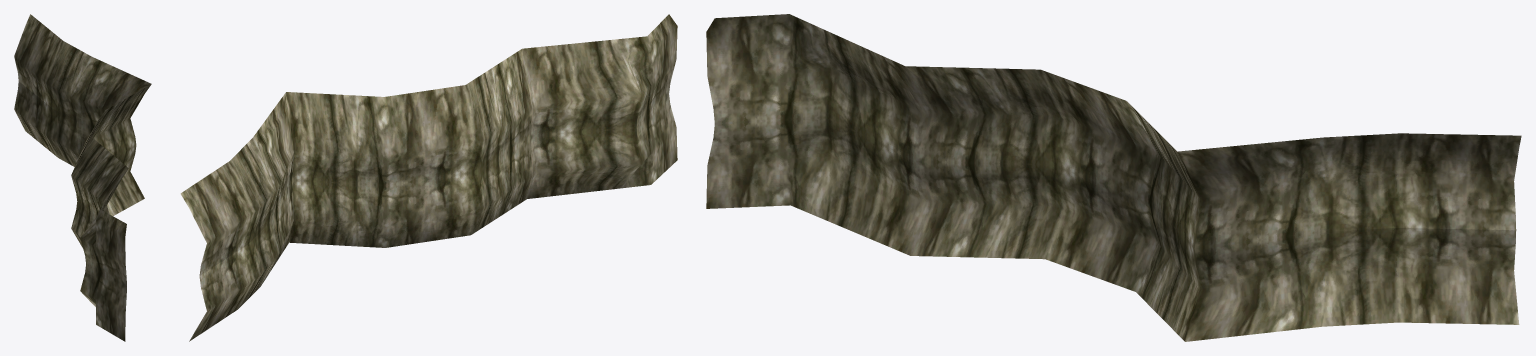
File: CB_NEWPLAYSURFACE_CB_PLAYSURFACE46.fbx
3 views of the same model, side by side, from view 1: azimuth 30°, elevation 25°; view 2: azimuth 150°, elevation 25°; view 3: azimuth 270°, elevation 25° (orthographic). The views are drawn at different scales.
Parts seen in each view (by area): view 1: CB_NEWPLAYSURFACE_CB_PLAYSURFACE46; view 2: CB_NEWPLAYSURFACE_CB_PLAYSURFACE46; view 3: CB_NEWPLAYSURFACE_CB_PLAYSURFACE46.
Part boxes in pixels (<box>): CB_NEWPLAYSURFACE_CB_PLAYSURFACE46: <box>14,14,151,341</box>; CB_NEWPLAYSURFACE_CB_PLAYSURFACE46: <box>180,14,677,341</box>; CB_NEWPLAYSURFACE_CB_PLAYSURFACE46: <box>706,14,1521,341</box>.
Bounding box in the file's own units: 116649 × 73541 × 279858.
1 material, 1 textured.
